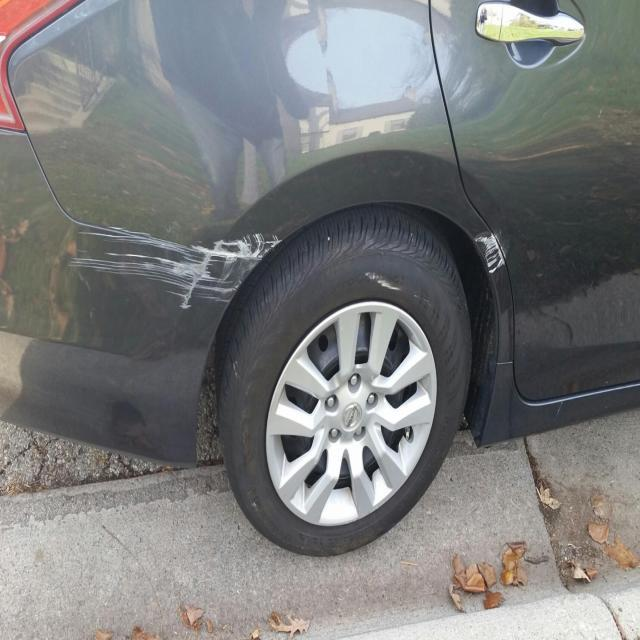scratch: (55, 205, 291, 314), (468, 210, 530, 296)
